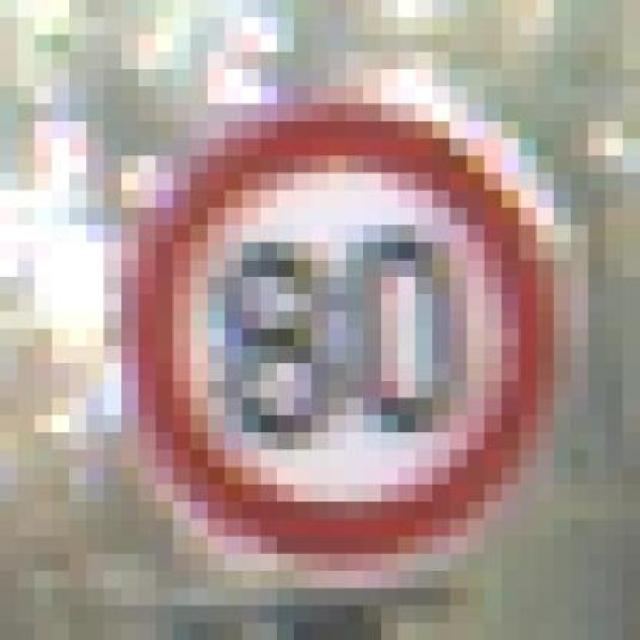forb_speed_over_80: (144, 125, 547, 556)
